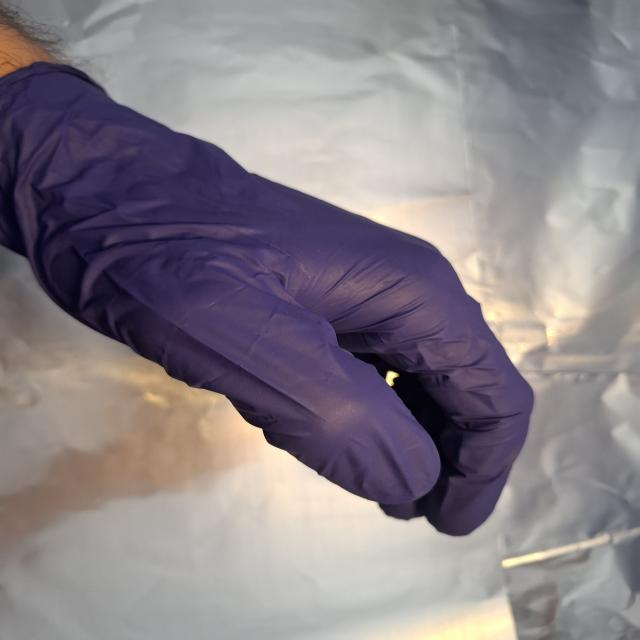glove_on: (0, 61, 536, 539)
